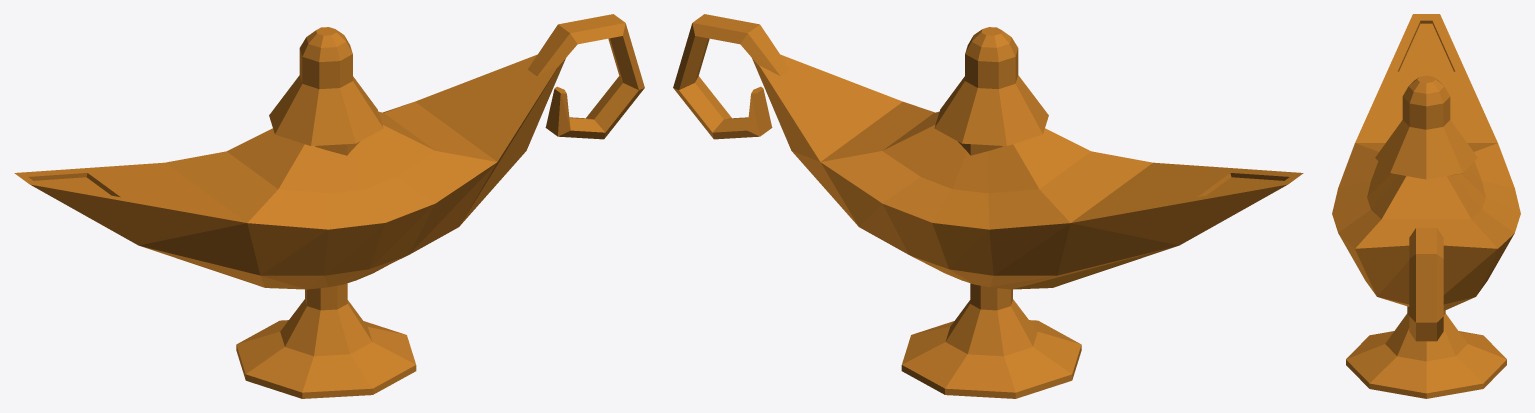
The model's file is SM_lamp_arabian_01.fbx.
The picture shows the model from 3 angles, left to right: view 1: azimuth 30°, elevation 25°; view 2: azimuth 150°, elevation 25°; view 3: azimuth 270°, elevation 25°; orthographic projection. The views are drawn at different scales.
Parts seen in each view (by area): view 1: Cylinder001; view 2: Cylinder001; view 3: Cylinder001.
Boxes of the visible parts, x1,y1,x2,y2 form: Cylinder001: (14, 14, 644, 398); Cylinder001: (673, 14, 1303, 398); Cylinder001: (1332, 14, 1520, 398).
Bounding box in the file's own units: 21 × 6.43 × 10.72.
